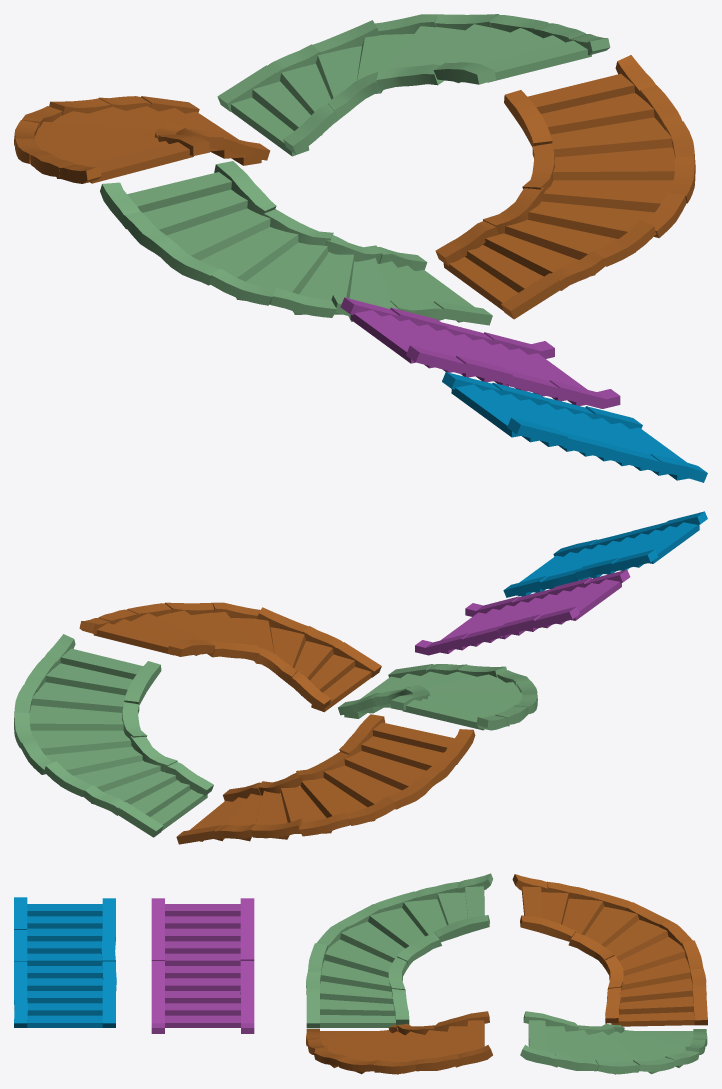
Rendered from 3dm_Stairs_01a.fbx.
3 views of the same model, one above another, from view 1: azimuth 30°, elevation 25°; view 2: azimuth 150°, elevation 25°; view 3: azimuth 270°, elevation 25° (orthographic). The views are drawn at different scales.
Visible parts, largest first — view 1: s1, s4, s6, s2, s3, s5; view 2: s6, s2, s1, s4, s3, s5; view 3: s4, s2, s3, s5, s6, s1.
Part boxes in pixels (x1,y1,x2,y2): s1: [435, 55, 695, 319]; s4: [100, 161, 492, 325]; s6: [217, 14, 610, 156]; s2: [14, 96, 270, 183]; s3: [340, 297, 620, 408]; s5: [442, 372, 707, 482]; s6: [14, 634, 213, 837]; s2: [176, 714, 475, 844]; s1: [79, 602, 381, 712]; s4: [338, 664, 537, 730]; s3: [415, 569, 630, 655]; s5: [503, 511, 707, 597]; s4: [306, 873, 492, 1028]; s2: [512, 874, 707, 1026]; s3: [151, 898, 254, 1033]; s5: [14, 897, 116, 1027]; s6: [520, 1011, 707, 1074]; s1: [306, 1011, 492, 1074].
Bounding box in the file's own units: 2056 × 384 × 3394.
